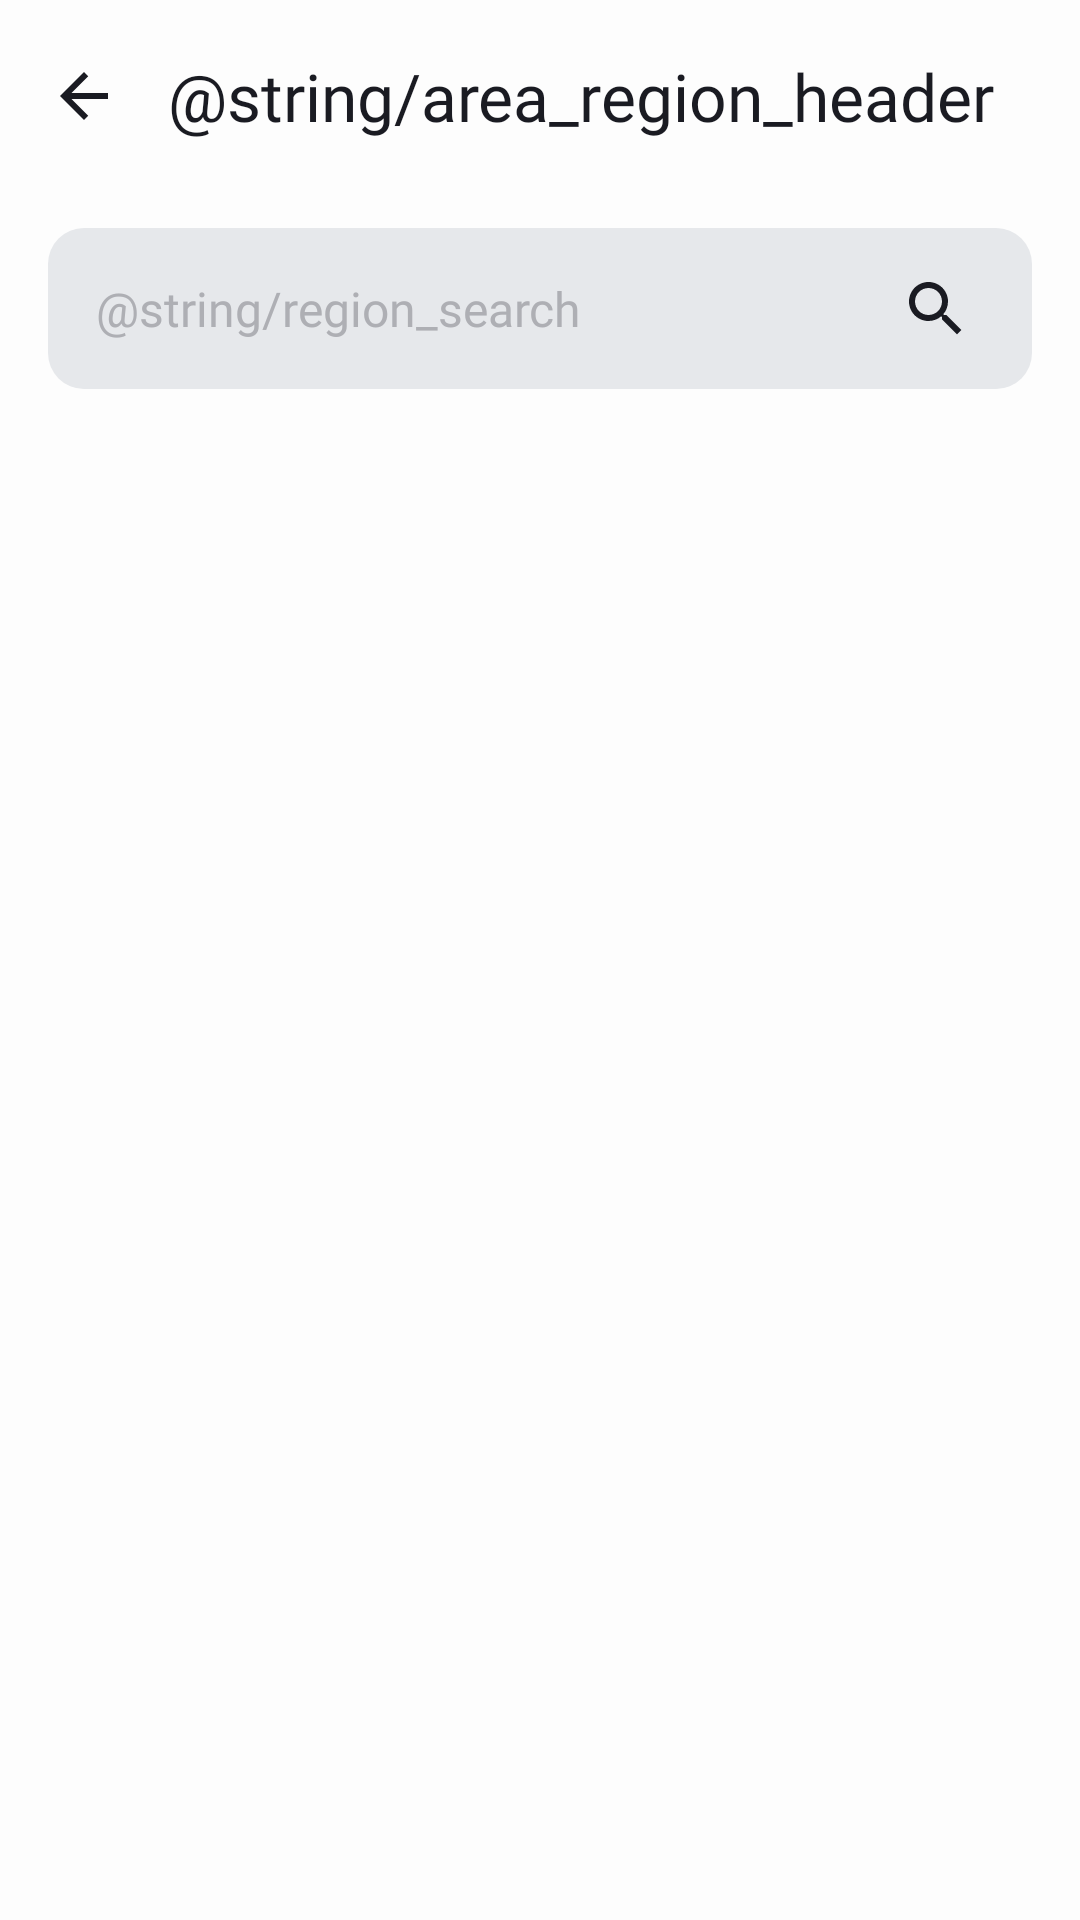

Point at icon controls on the screen. Image size 1080*1920, points as (x,y).
arrow back: (84,96)
search: (935,308)
